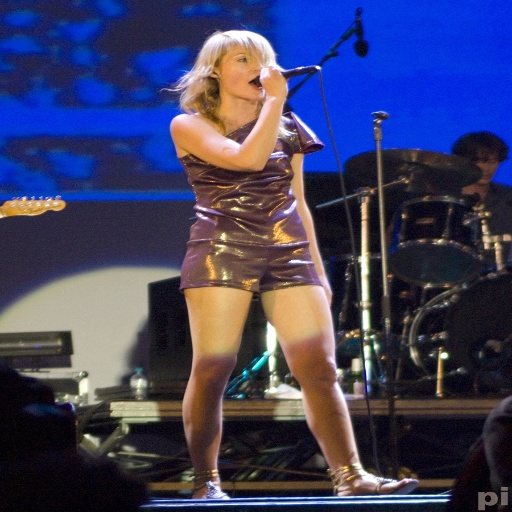hand: (257, 63, 286, 97), (316, 275, 332, 302)
